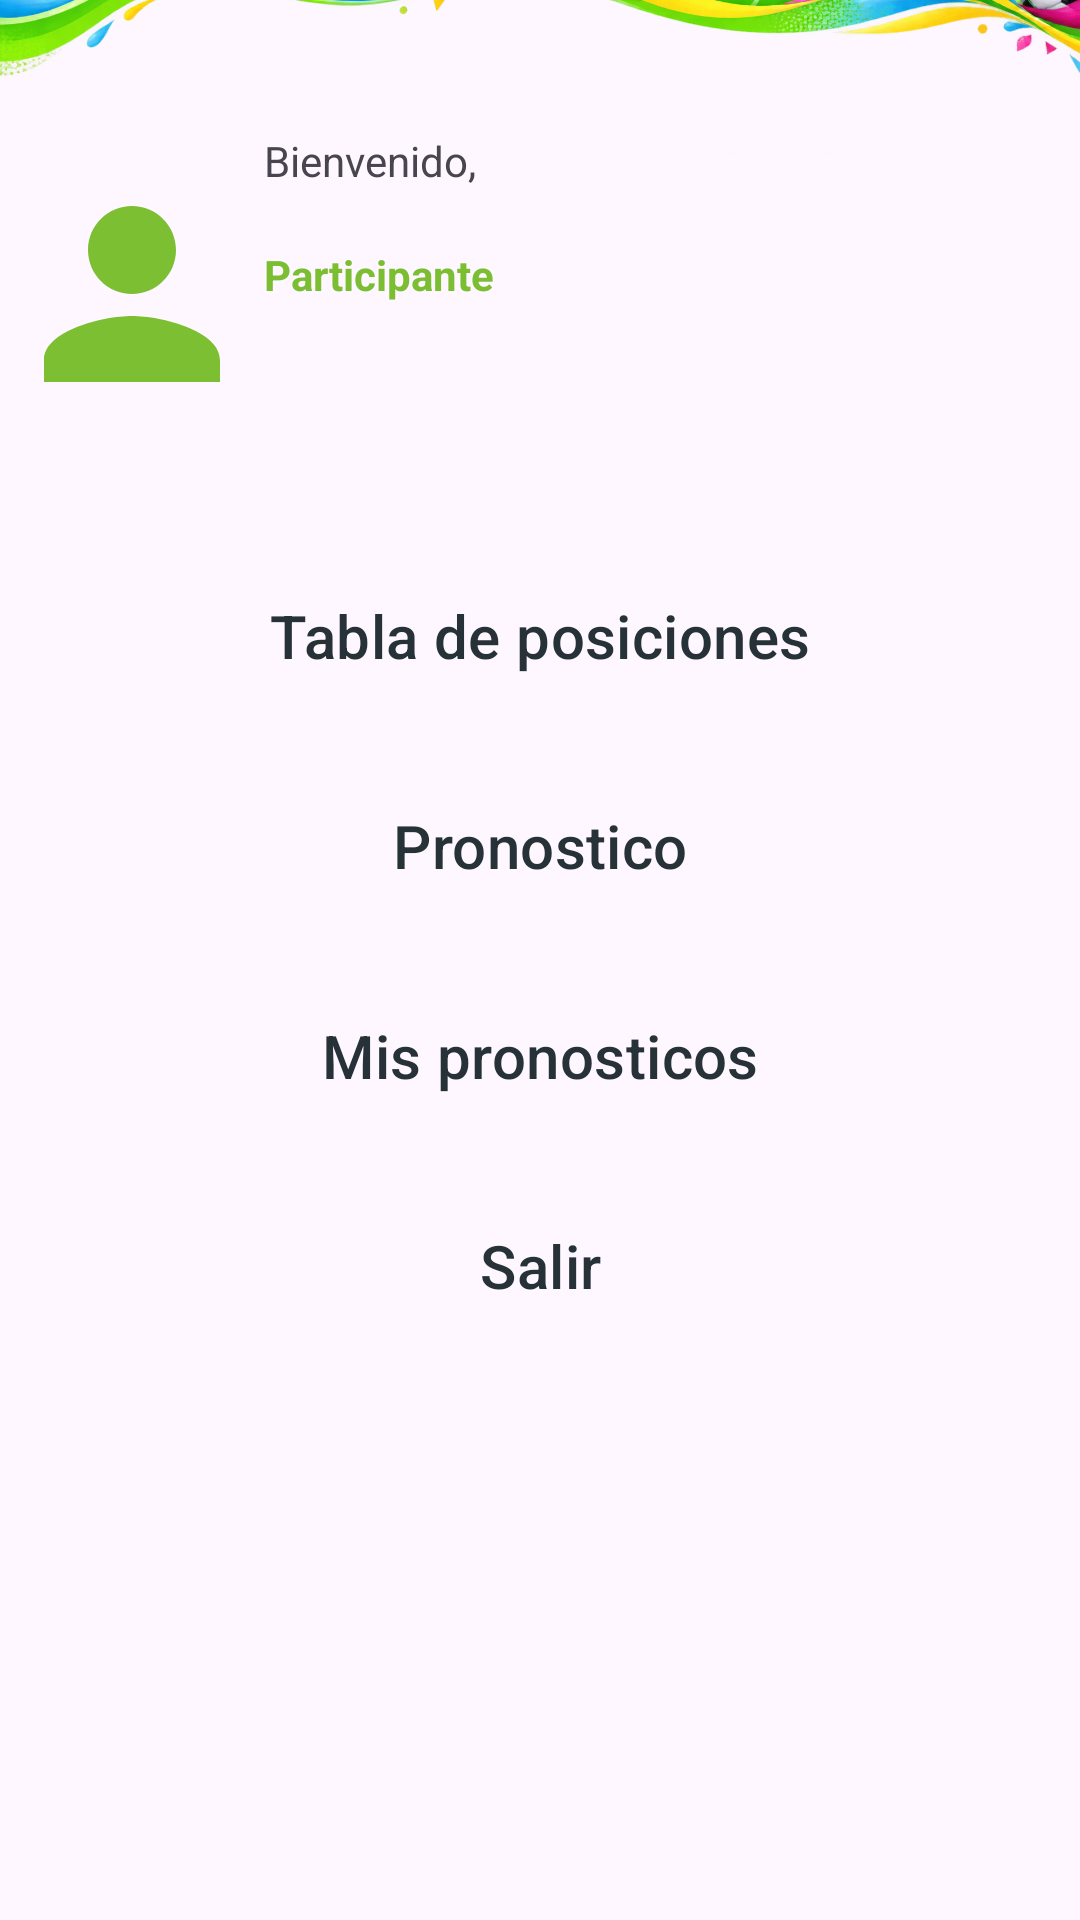

Icons on this 1080px x 1920px Android screen, each with the point to tap as [x,y]:
person: [132,294]
